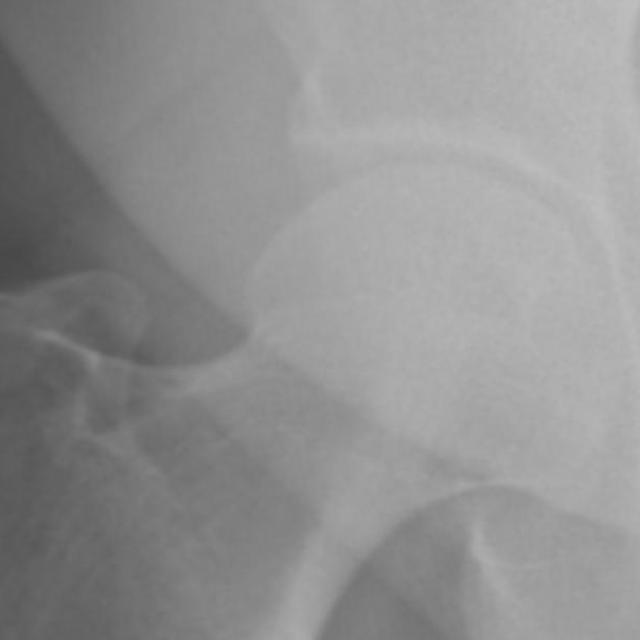Fitted_femural_head: (362, 161, 432, 362)
